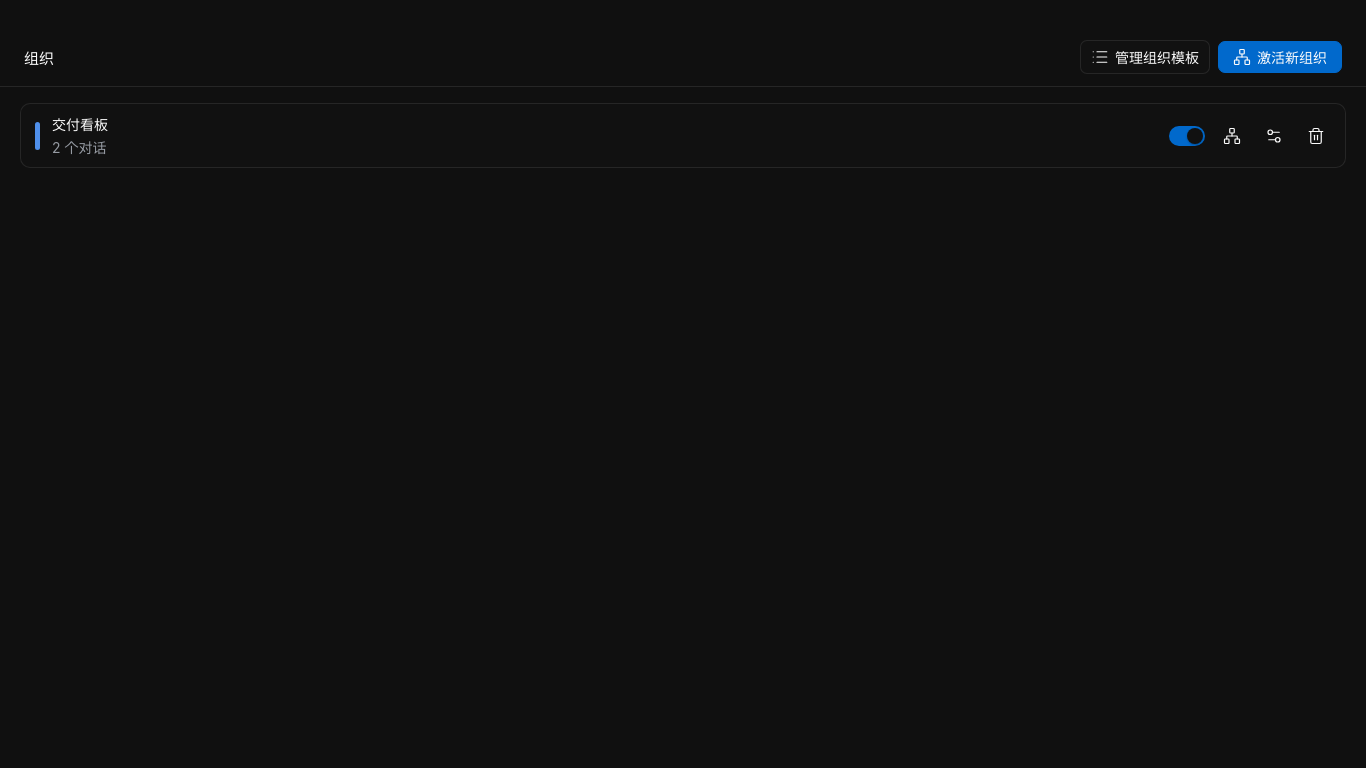
global organization management › opens a separate read-only diagram before the configuration action and opens its bound conversation
Click the button named "组织看板 交付看板" at (1232, 136), box [1217,120,1247,152]
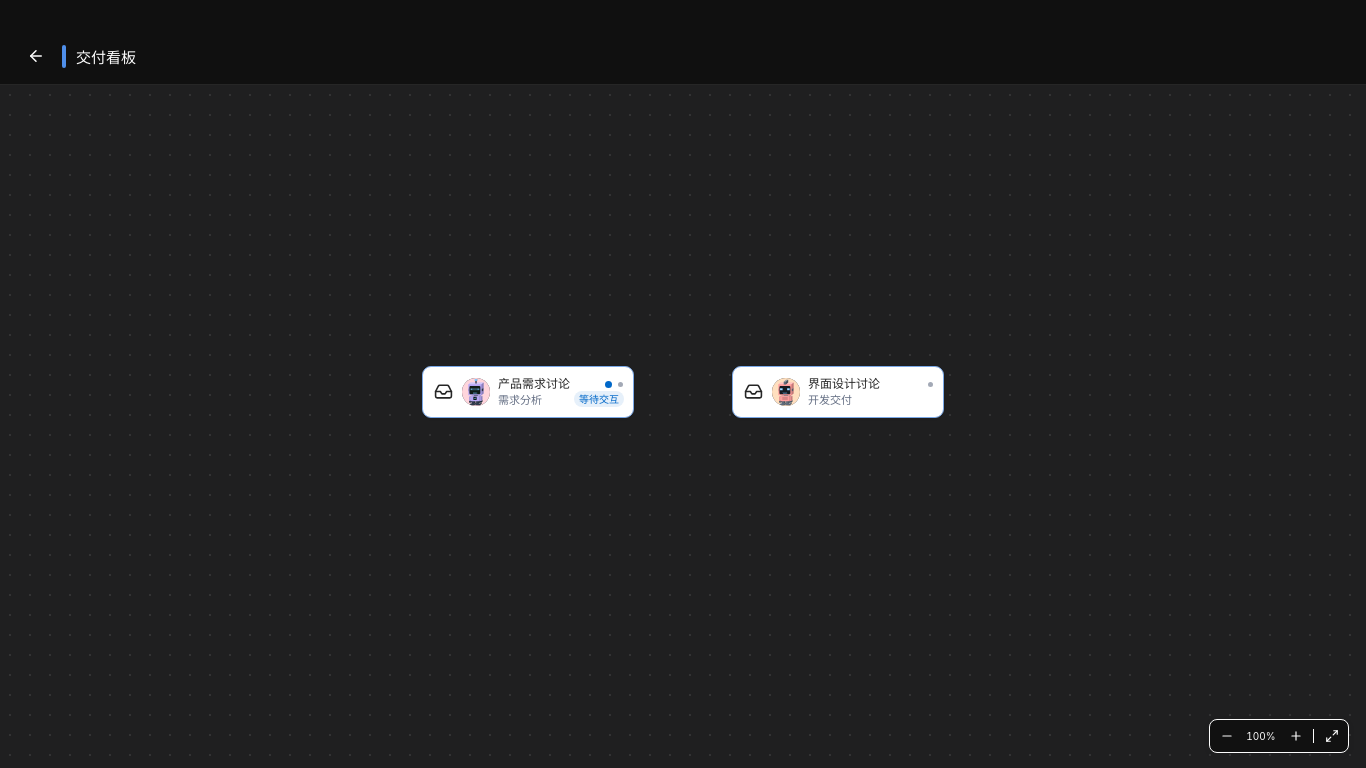
Expected: the button named "返回组织" is shown, [20,40,52,72]
Expected: the text "等待交互" is shown, [574,390,624,406]
Double-click the button with aria-label "双击打开对话 · 产品需求讨论" at (528, 392), box [422,366,634,418]
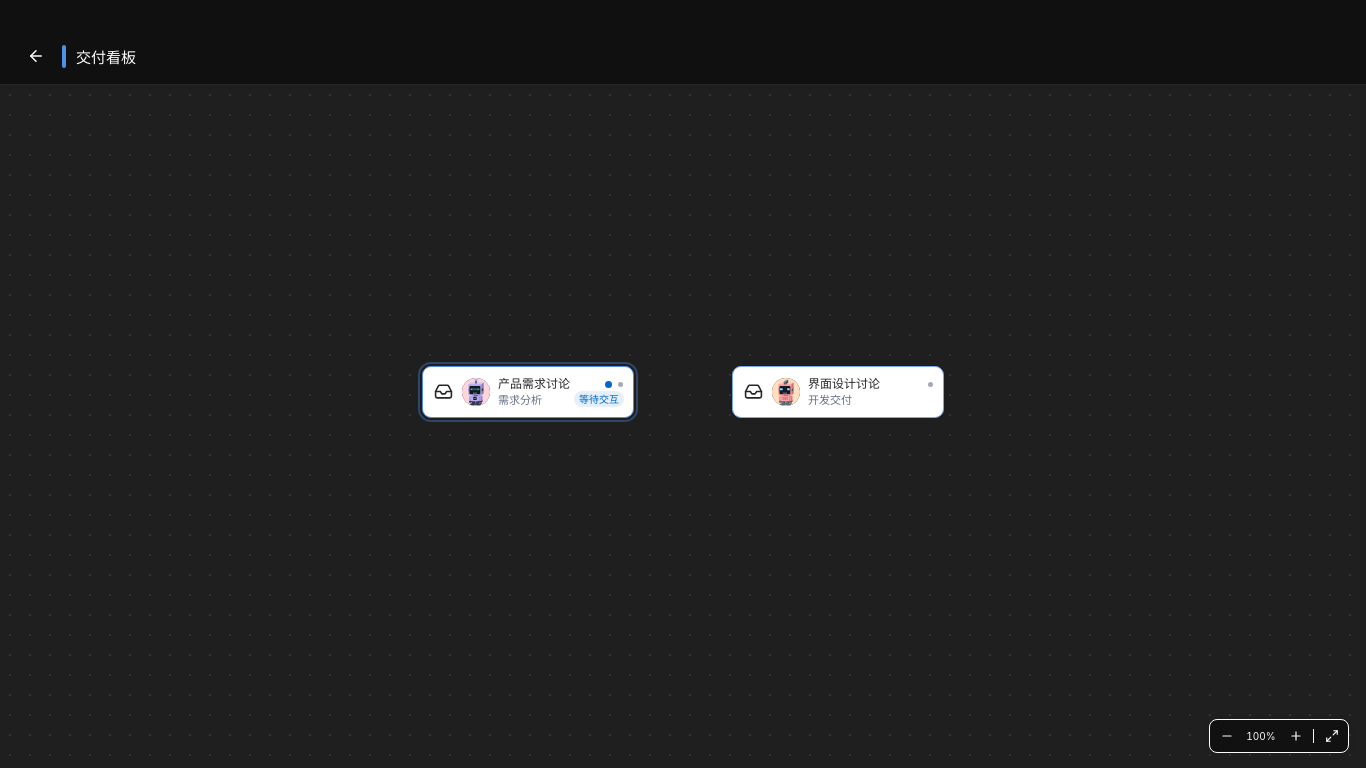
Click the button named "返回组织" at (36, 56), box [20,40,52,72]
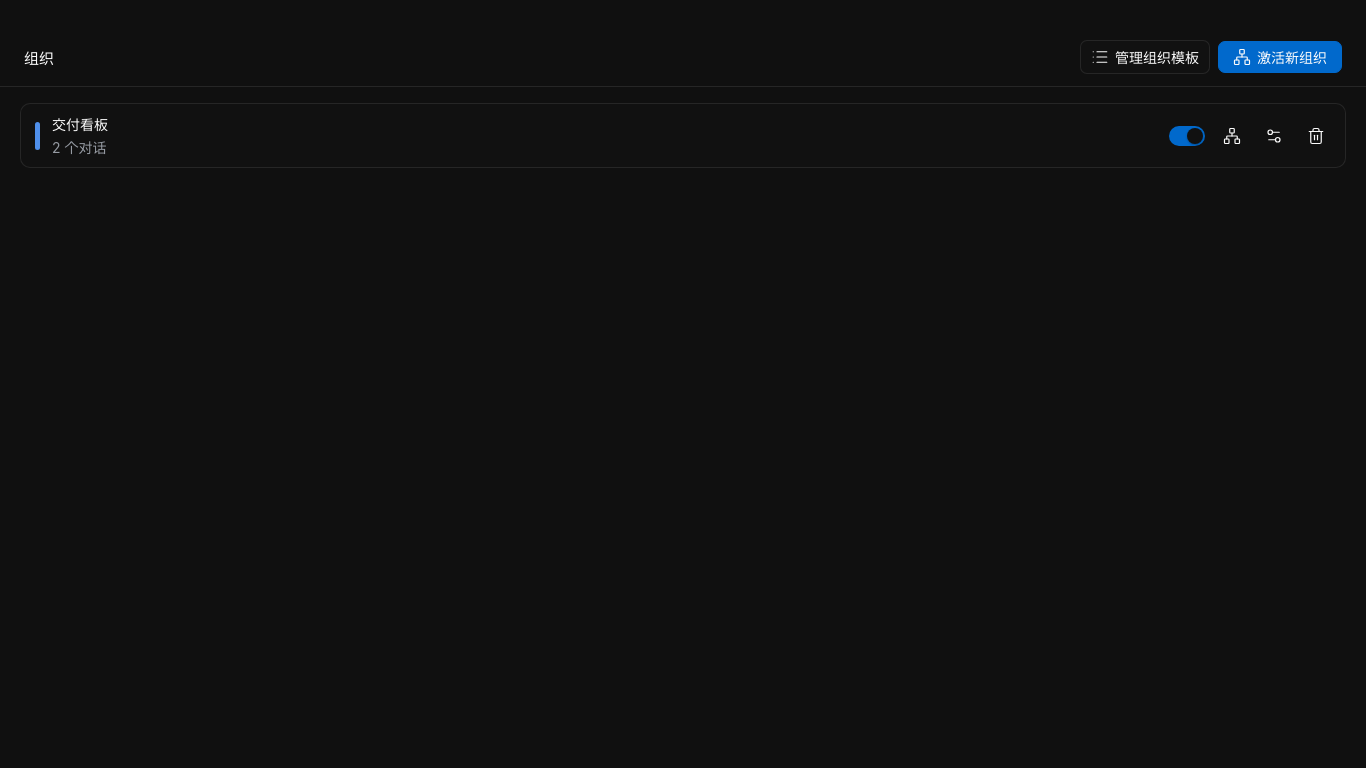
Expected: the button named "组织看板 交付看板" is shown, [1217,120,1247,152]
